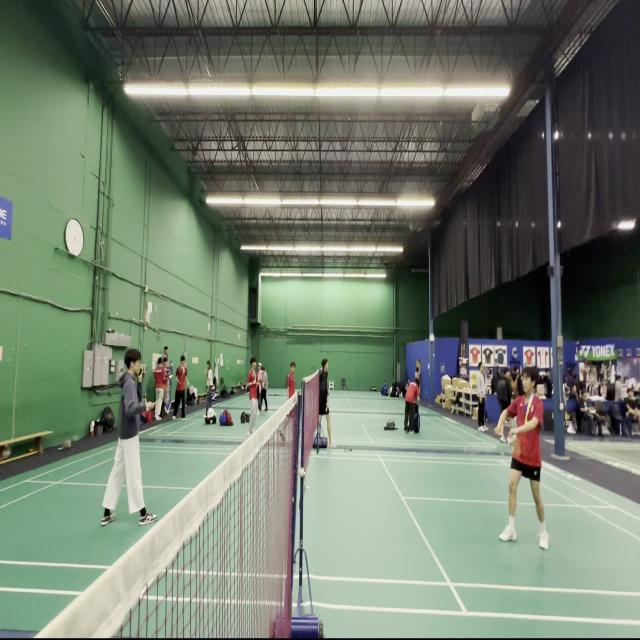shuttlecock: (506, 435, 513, 446)
